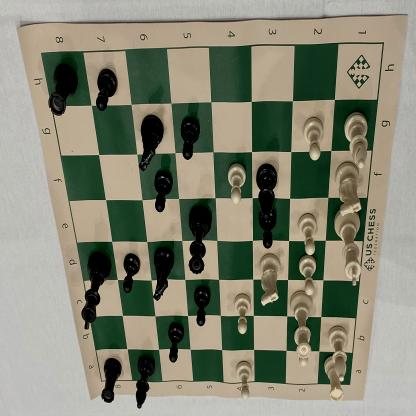black-bishop: (254, 161, 278, 219), (134, 354, 156, 411)
black-king: (79, 250, 112, 331)
black-knight: (136, 112, 165, 176), (152, 246, 176, 304)
black-pawn: (95, 67, 121, 113), (180, 116, 202, 161), (153, 168, 173, 214), (121, 252, 142, 294), (192, 286, 212, 328), (258, 209, 278, 250), (166, 322, 184, 364)
black-queen: (186, 203, 213, 275)
black-rook: (47, 62, 80, 118), (100, 357, 122, 405)
white-bishop: (325, 325, 353, 380), (343, 112, 370, 169)
white-king: (334, 209, 364, 288)
white-knight: (333, 161, 364, 218), (256, 253, 282, 307)
white-pawn: (302, 115, 326, 162), (297, 212, 320, 255), (232, 290, 252, 335), (228, 161, 248, 206), (298, 254, 318, 297), (235, 358, 254, 403), (293, 324, 312, 368)
white-queen: (288, 290, 313, 358)
white-rook: (321, 353, 348, 407)
